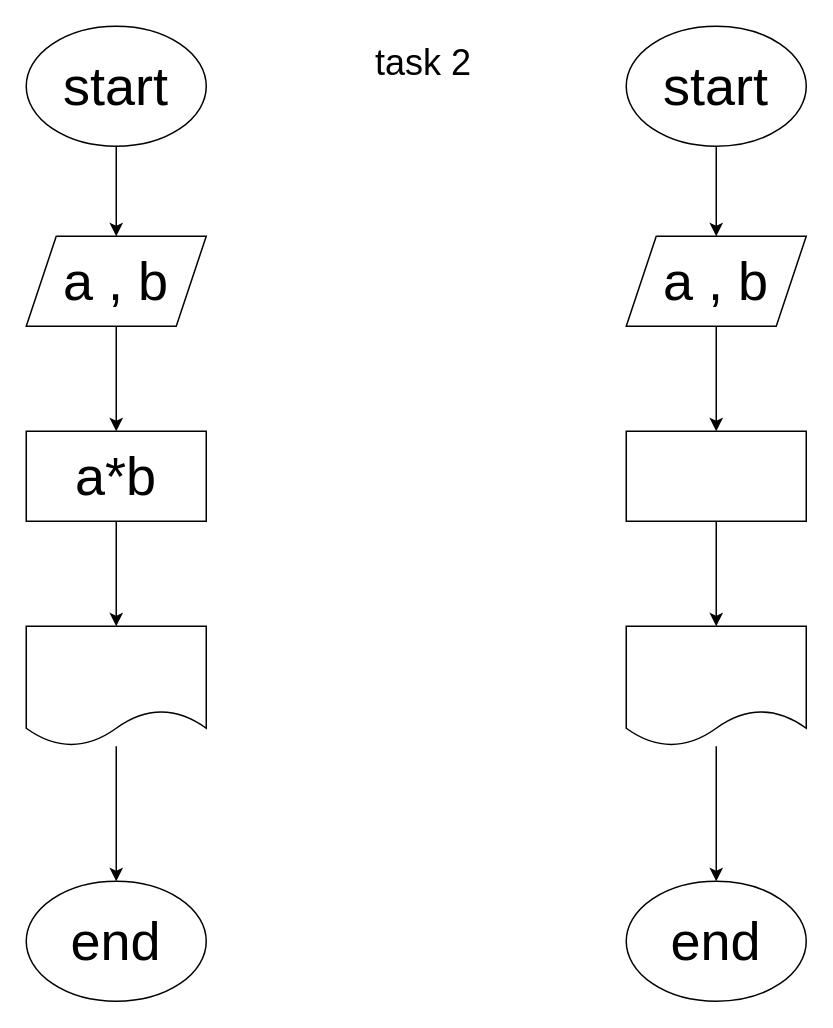
The diagram is 833 pixels wide and 1028 high, and some of its shapes have lost their labels. The shapes that lost their labels are listed below. From the top down, each one's centre as x and y in pixels, then its label:
At (x=715, y=475): "2*(a+b)".
At (x=115, y=685): "sahe".
At (x=715, y=685): "perimetr".
